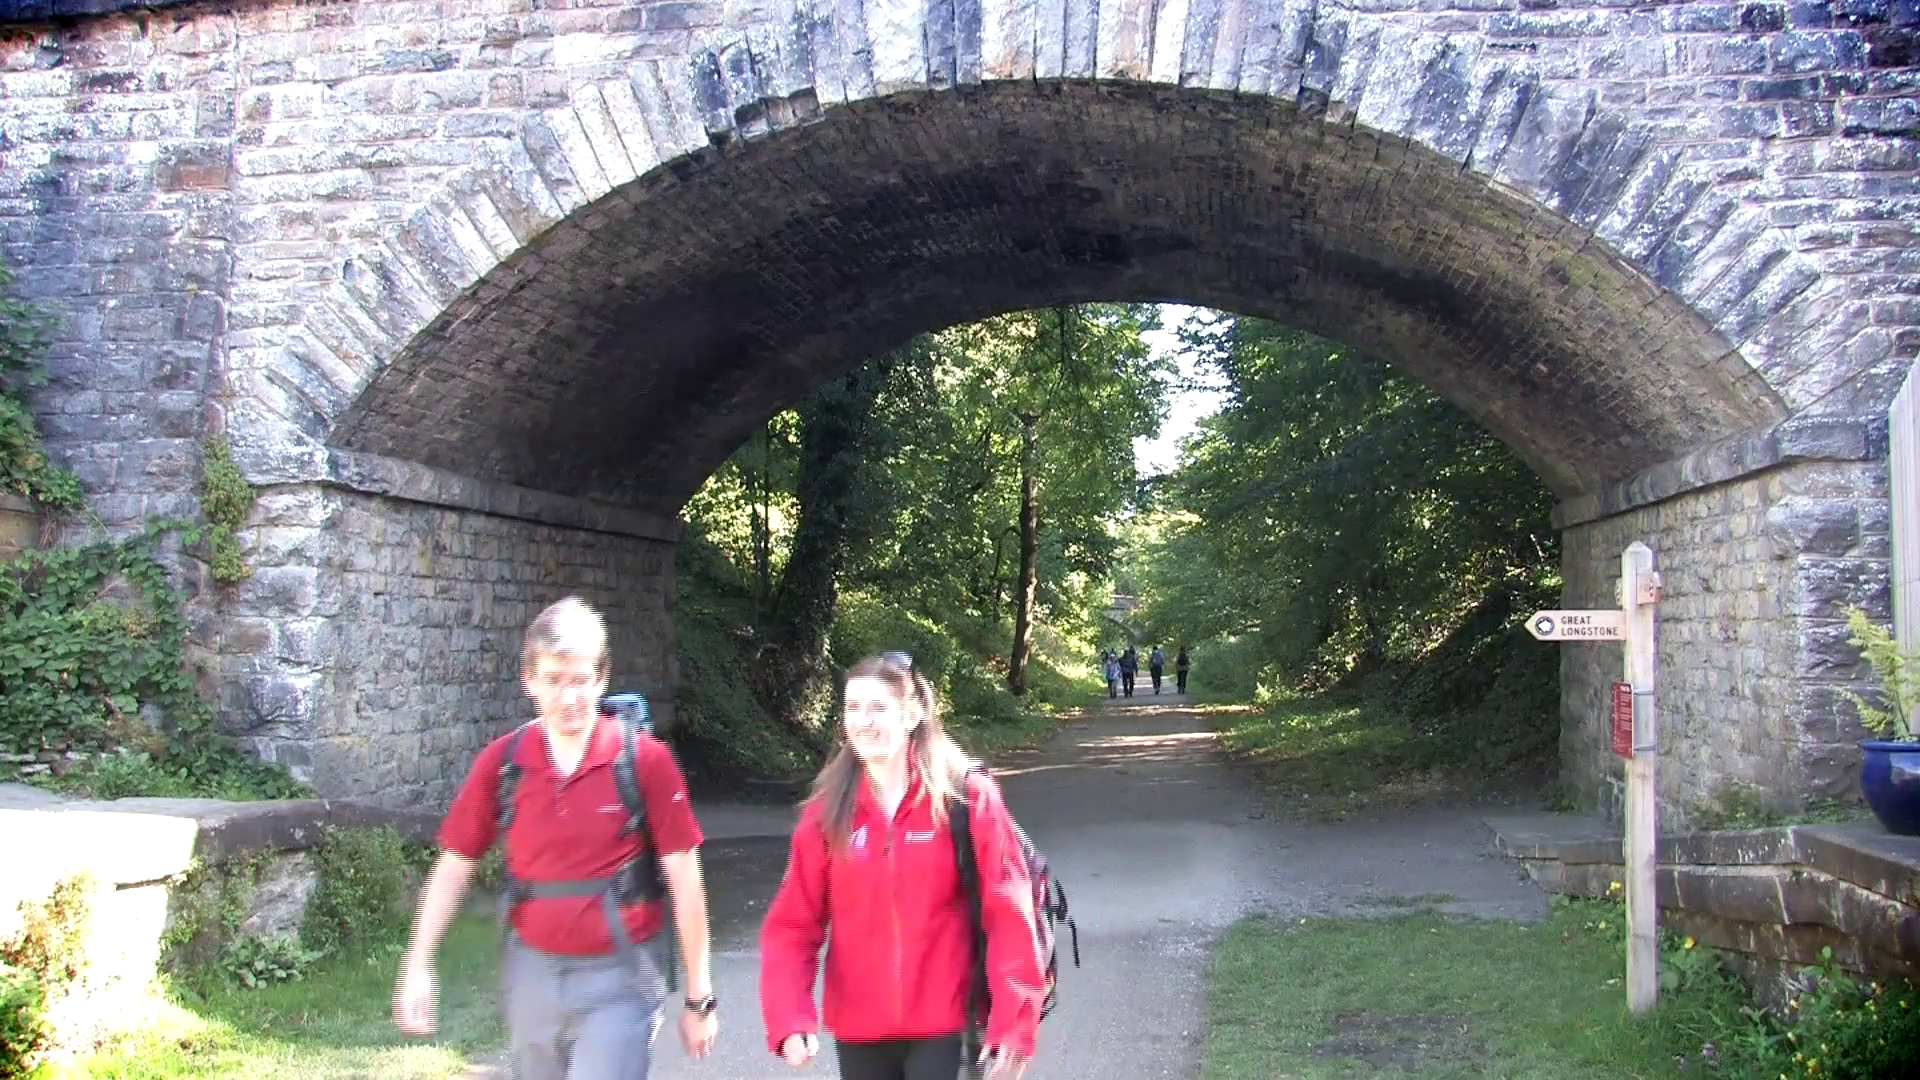person: (393, 597, 717, 1080), (758, 651, 1056, 1080)
